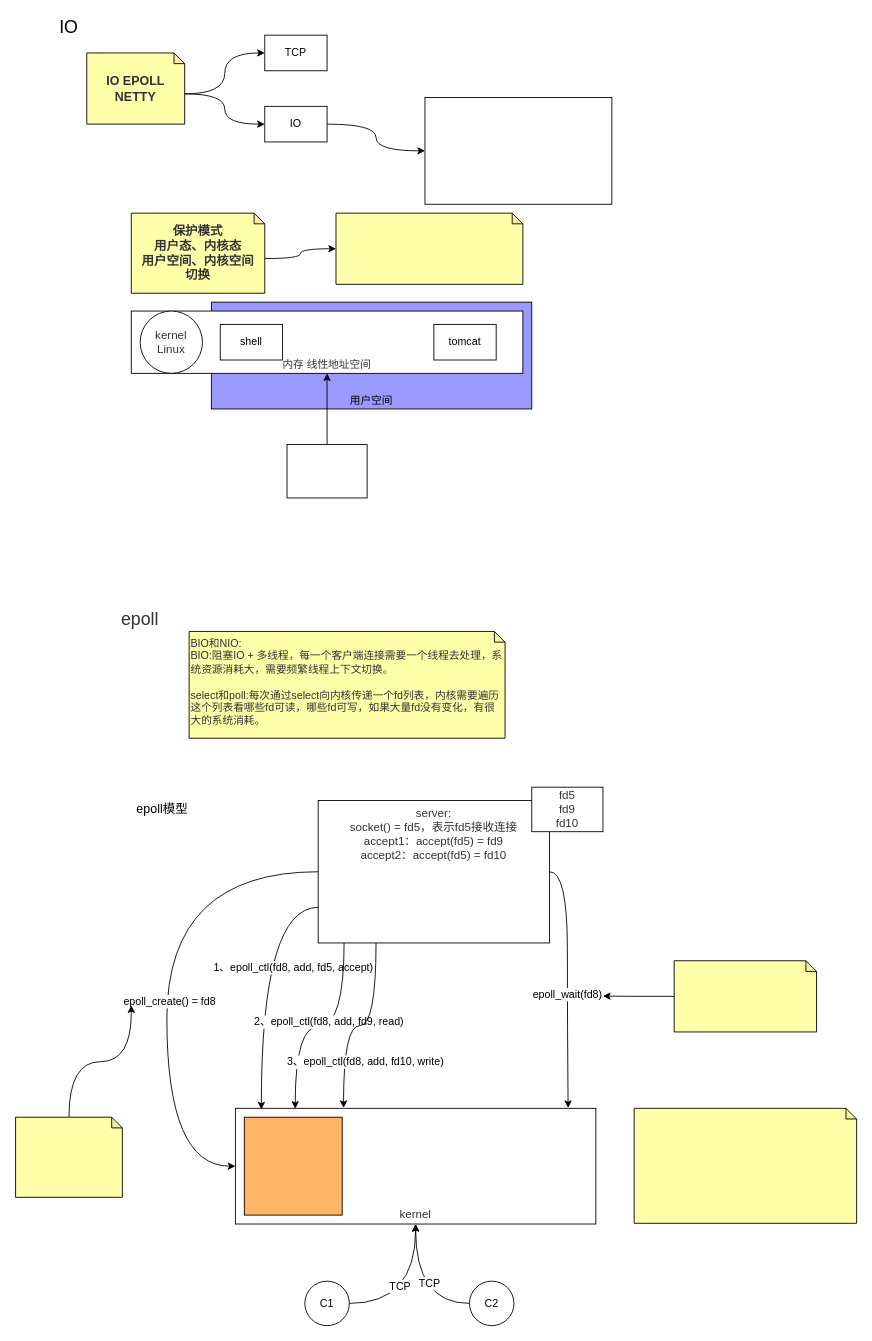
This 872x1341 diagram has some shape labels left out. The centre of each missing label's shape, as x and y in pixels:
"CPU 寄存器" belongs at (326,471).
"fd8 fd5 accept fd9 read fd10 write" belongs at (292,1165).
"GDT(全局描述符表) 内核把内存线性地址映射到一张表上 在表中划分内核内存空间和用户程序内存空间" belongs at (429,248).
"Kernel Linux 系统调用 sendfile 零拷贝 mmap 内存映射 java 字节码 jvm是啥? jvm C语言开发 程序 内核 系统调用" belongs at (518,150).
"每次循环: O(1) 的 EPOLL_WAIT 每一个FD只有一个O(1)的复杂度通过epoll_ctl添加到内核" belongs at (745,1165).
"相当于创建一个fd，存储可读、可写的fd，用epoll_wait监听这个fd" belongs at (68,1156).
"相当于监听fd8，返回有状态变化的fd" belongs at (745,996).
